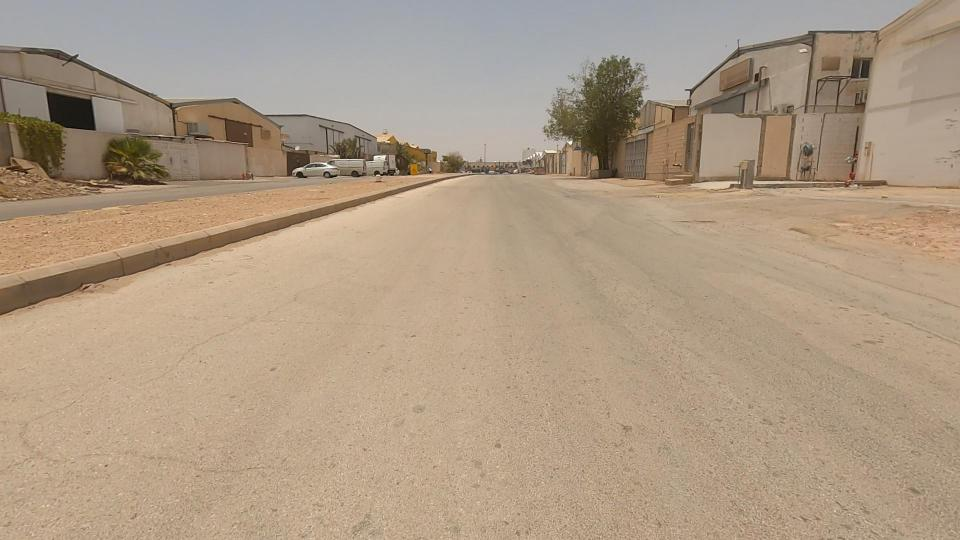CLUTTER_SIDEWALK: (0, 163, 303, 309), (167, 155, 394, 252)
